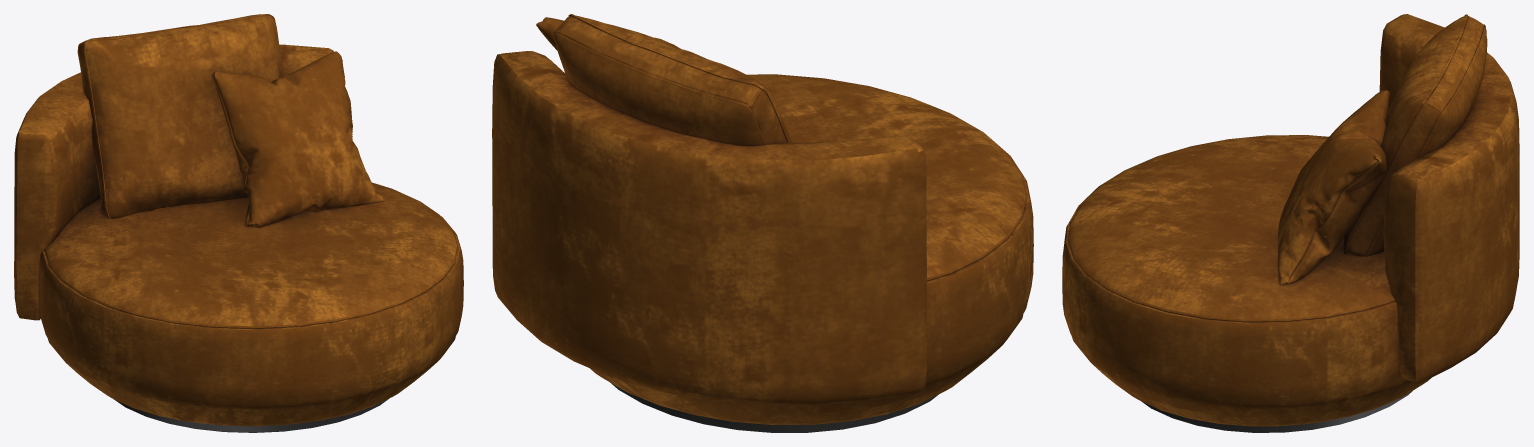
Rendered from raw_model.obj.
The picture shows the model from 3 angles, left to right: view 1: azimuth 30°, elevation 25°; view 2: azimuth 150°, elevation 25°; view 3: azimuth 270°, elevation 25°; orthographic projection. The views are drawn at different scales.
Visible parts, largest first — view 1: solid_002, solid_001; view 2: solid_002, solid_001; view 3: solid_002, solid_001.
Boxes of the visible parts, box(x1,y1,x2,y2) form: solid_002: box(14, 14, 463, 426); solid_001: box(114, 399, 388, 432); solid_002: box(492, 14, 1033, 424); solid_001: box(610, 382, 938, 432); solid_002: box(1062, 14, 1519, 426); solid_001: box(1141, 391, 1412, 432).
Size of the model in its own units: 0.9981 by 0.7667 by 1.02.
1 material, 1 textured.
